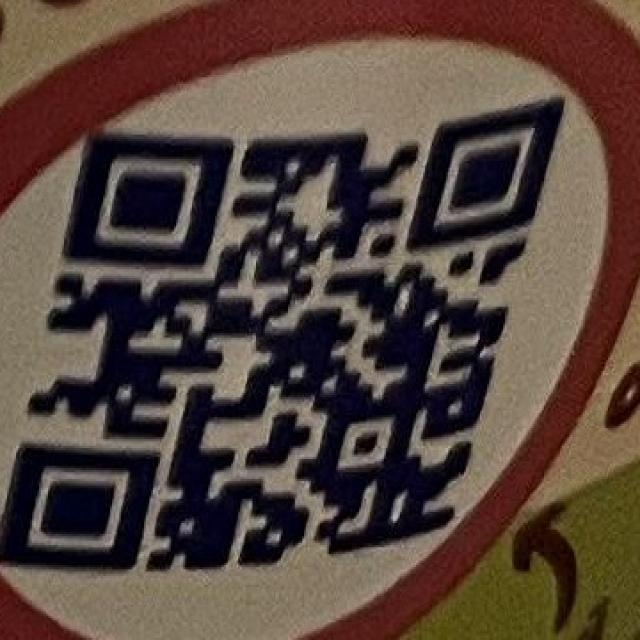QR_CODE: (1, 93, 567, 572)
